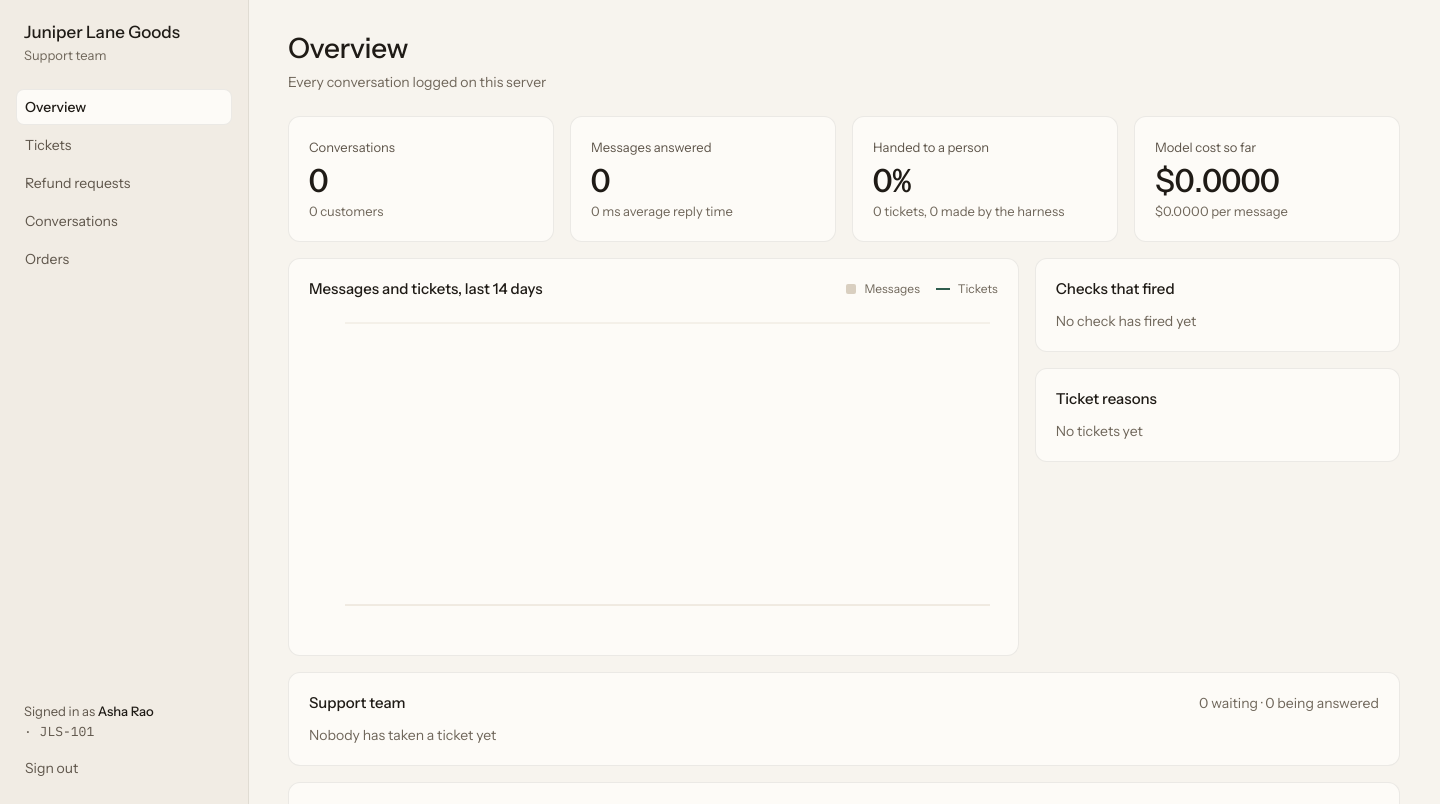
Test case: refund requests in the admin panel › shows why a decision failed
Expected: the heading "Overview" is shown, [288,31,408,65]
Click the button "Refund requests". click: (124, 183)
box: [16,165,232,201]
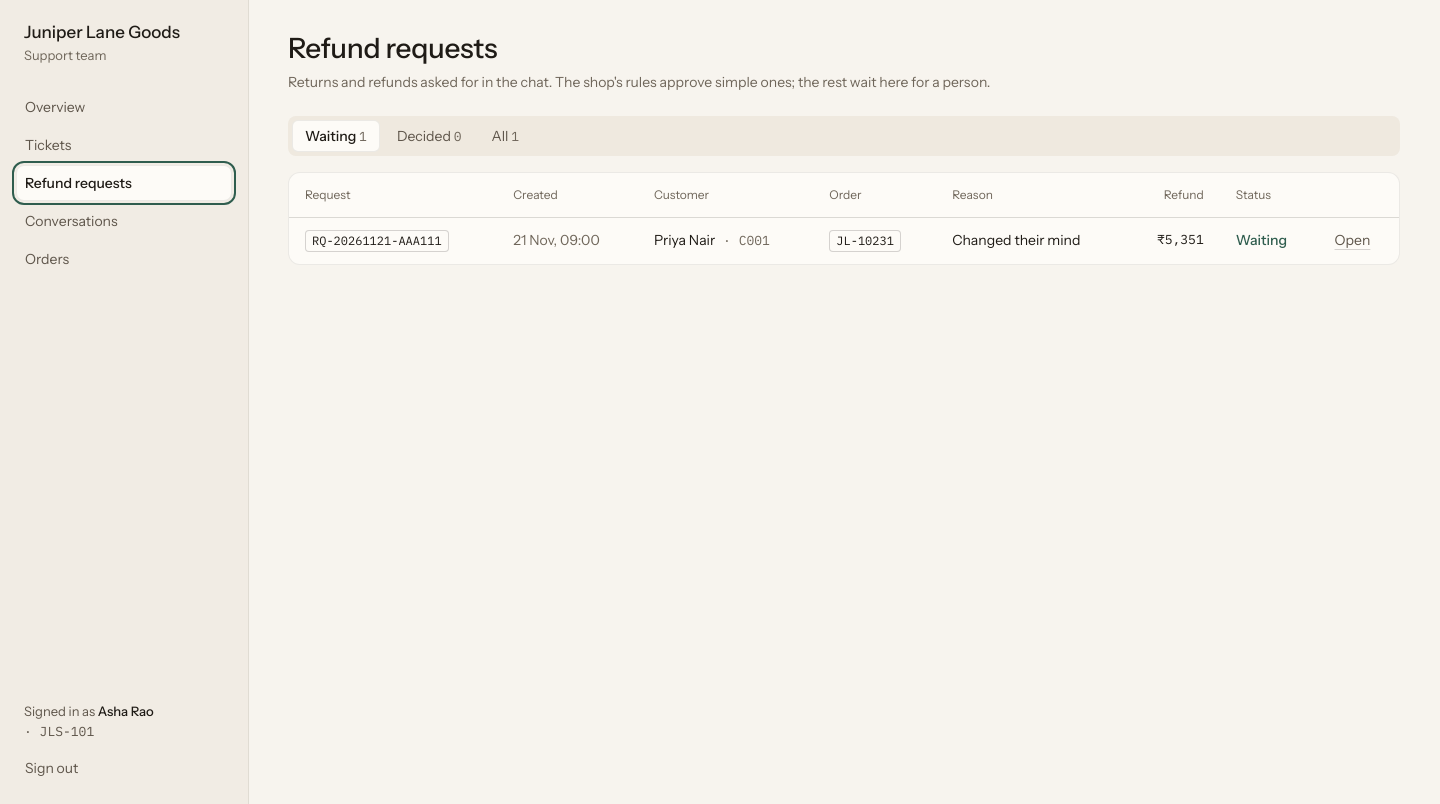
Click the button "Open". click: (1352, 240)
box: [1334,230,1370,250]
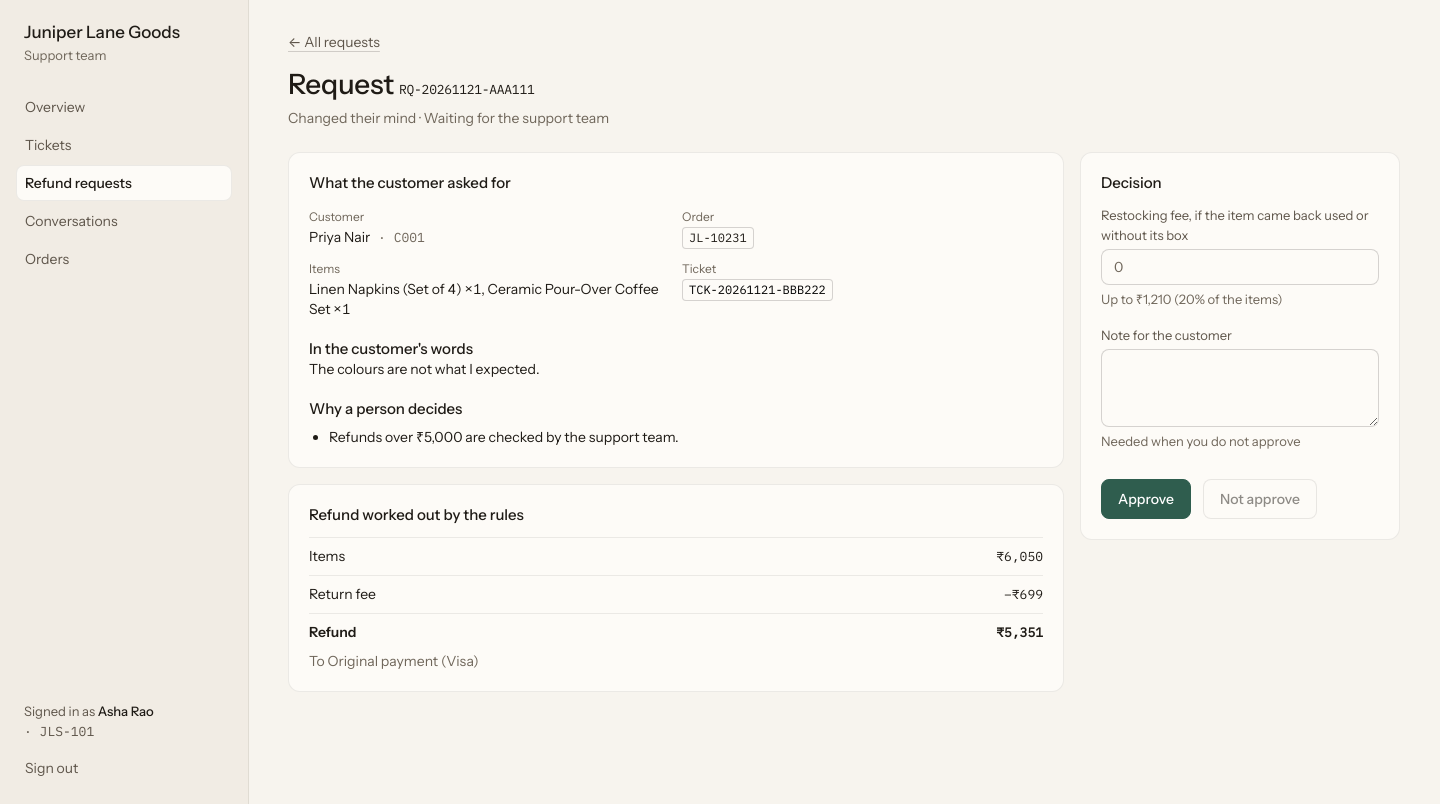
Type "The items were used." into the text box labelled "Note for the customer". click: (1240, 388)
box: [1101,349,1379,427]
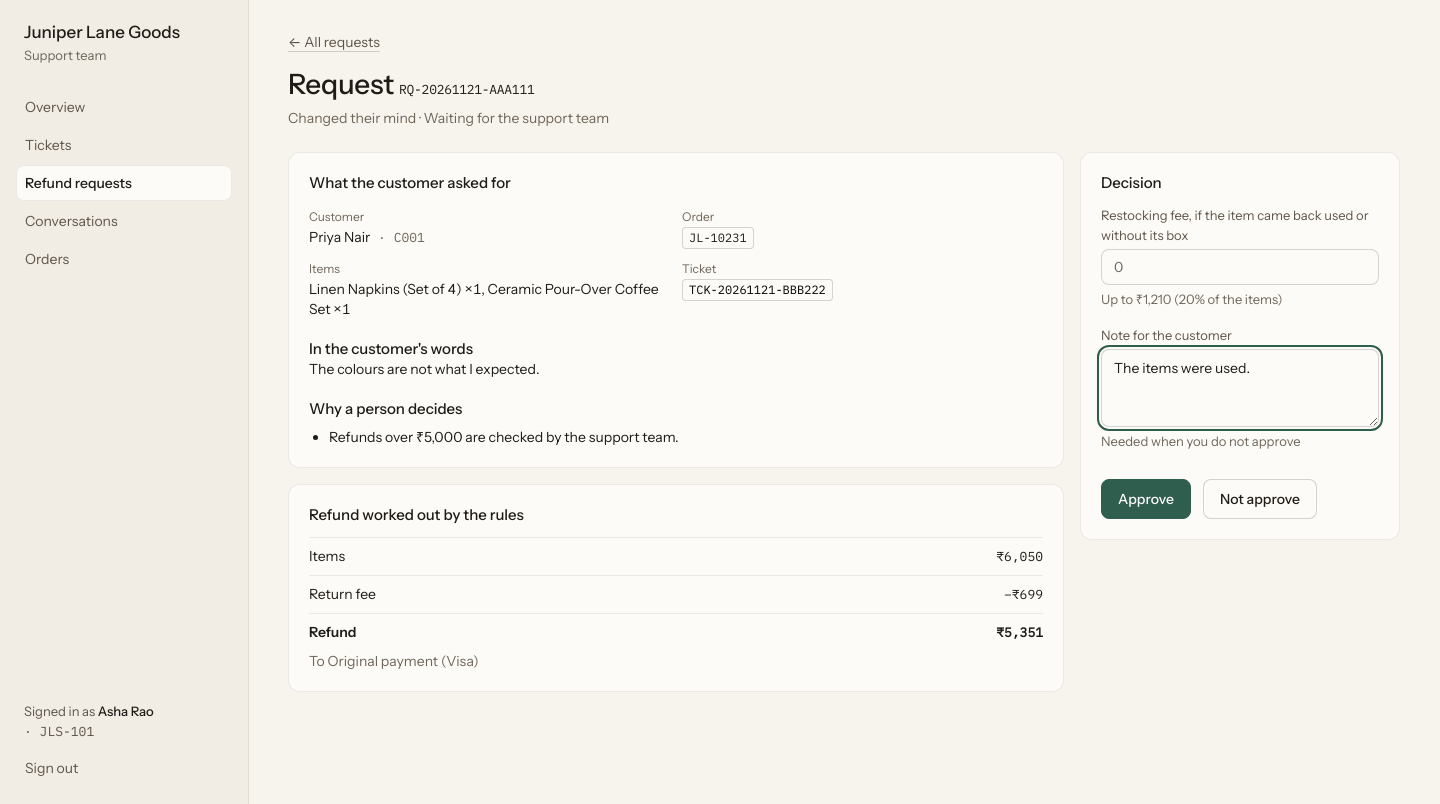
Click the button "Not approve". click: (1260, 499)
box: [1203,479,1317,519]
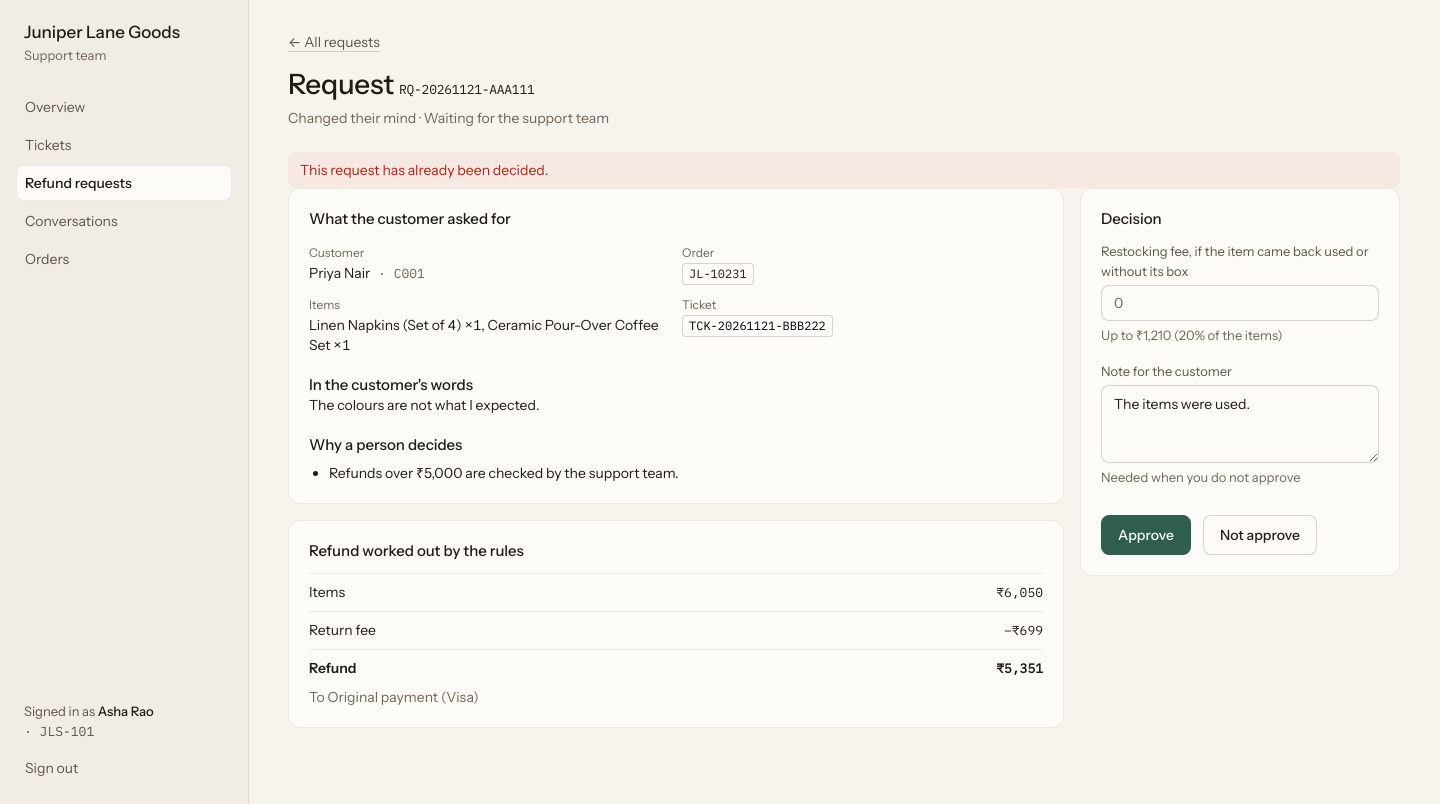
Now the message reads "This request has already been decided.", box [300,161,548,179]
